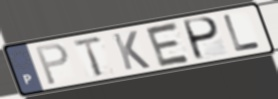E: (144, 21, 193, 69)
K: (111, 29, 153, 72)
L: (221, 13, 263, 53)
P: (183, 16, 222, 62), (34, 42, 71, 87)
T: (71, 34, 106, 78)
